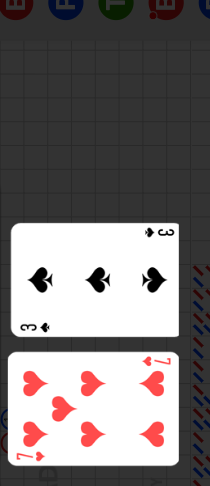3S: (142, 226, 175, 240)
7H: (15, 449, 47, 462)
